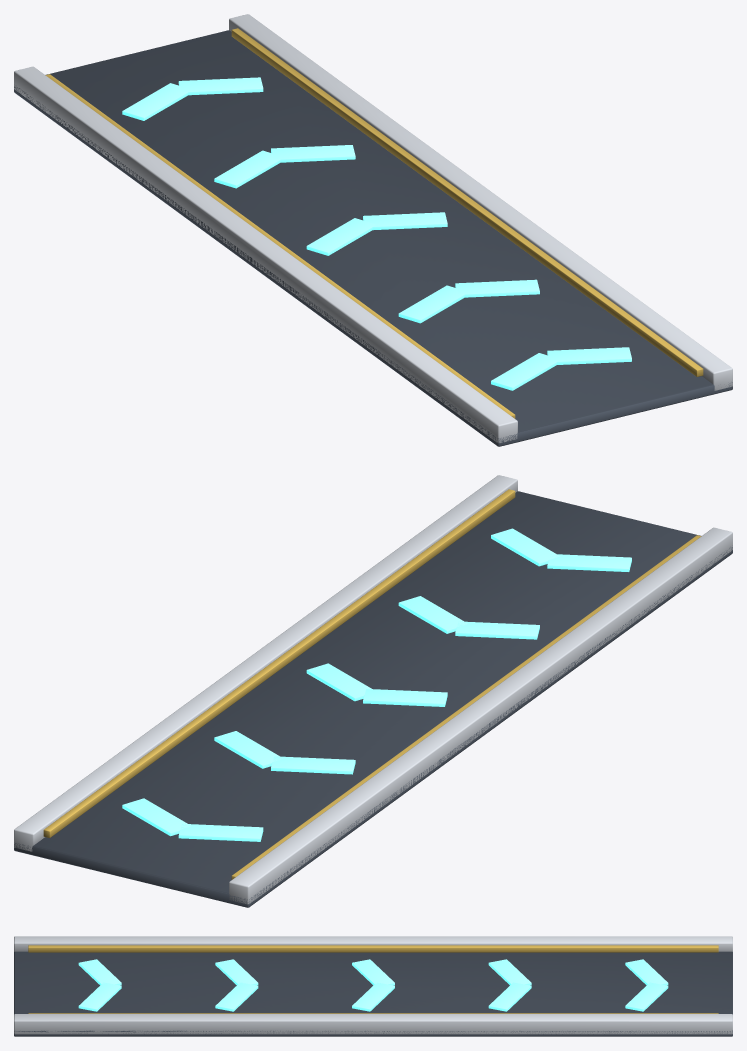
File: emp_boost_rail.glb
3 renders of one model, top to bottom at view 1: azimuth 30°, elevation 25°; view 2: azimuth 150°, elevation 25°; view 3: azimuth 270°, elevation 25°, orthographic. The views are drawn at different scales.
Parts seen in each view (by area): view 1: PropBody_A2_SlateFrame, PropBody_A2_OrbitalCeramic, PropBody_act2_PropGlow, PropBody_A2_SignalGold; view 2: PropBody_A2_SlateFrame, PropBody_A2_OrbitalCeramic, PropBody_act2_PropGlow, PropBody_A2_SignalGold; view 3: PropBody_A2_SlateFrame, PropBody_A2_OrbitalCeramic, PropBody_A2_SignalGold, PropBody_act2_PropGlow.
Boxes of the visible parts, x1,y1,x2,y2 form: PropBody_A2_SlateFrame: [14, 30, 732, 446]; PropBody_A2_OrbitalCeramic: [14, 14, 732, 442]; PropBody_act2_PropGlow: [122, 77, 631, 390]; PropBody_A2_SignalGold: [45, 28, 703, 418]; PropBody_A2_SlateFrame: [14, 491, 732, 907]; PropBody_A2_OrbitalCeramic: [14, 475, 732, 904]; PropBody_act2_PropGlow: [122, 528, 631, 841]; PropBody_A2_SignalGold: [43, 489, 701, 879]; PropBody_A2_SlateFrame: [14, 951, 732, 1036]; PropBody_A2_OrbitalCeramic: [14, 936, 732, 1034]; PropBody_A2_SignalGold: [28, 945, 718, 1013]; PropBody_act2_PropGlow: [78, 959, 668, 1011].
Bounding box in the file's own units: 2.8 × 0.25 × 10.
